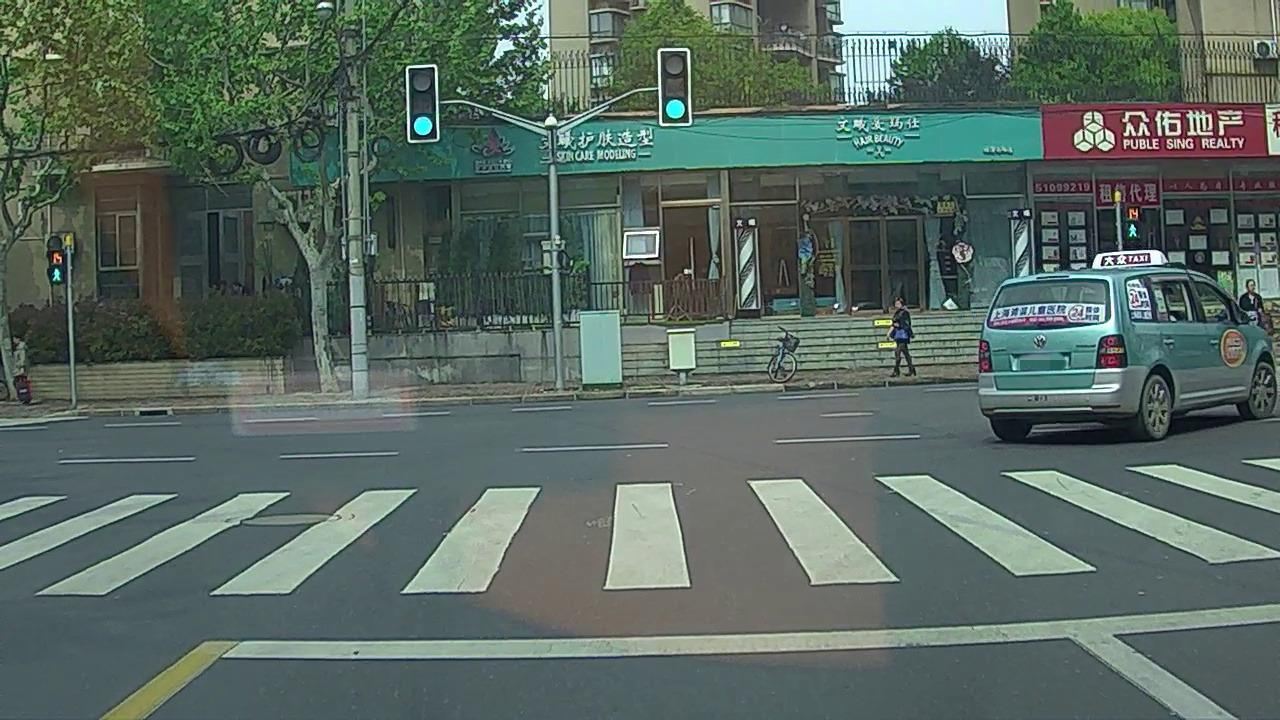traffic_light: (660, 51, 689, 128), (412, 65, 438, 144)
